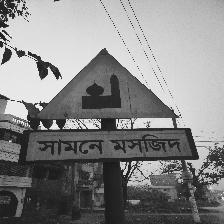Mosque in front: (27, 49, 195, 163)
